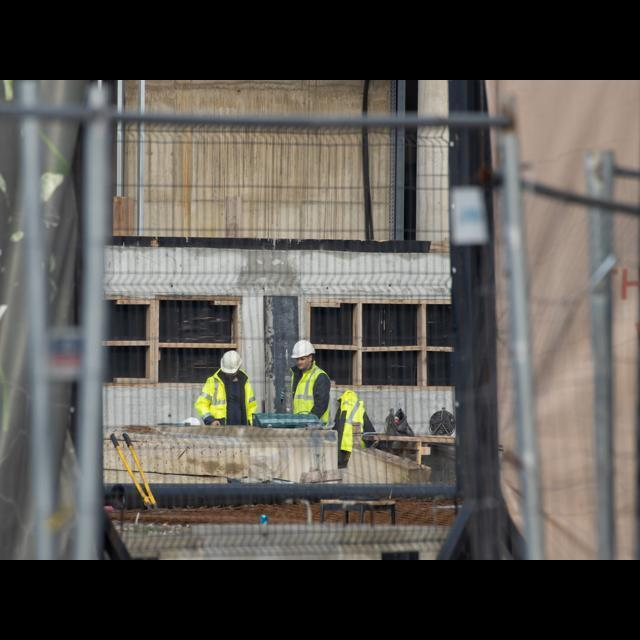helmet: (216, 336, 248, 383), (287, 332, 321, 364)
safety_vest: (192, 371, 264, 432), (332, 389, 372, 471), (290, 354, 332, 418)
